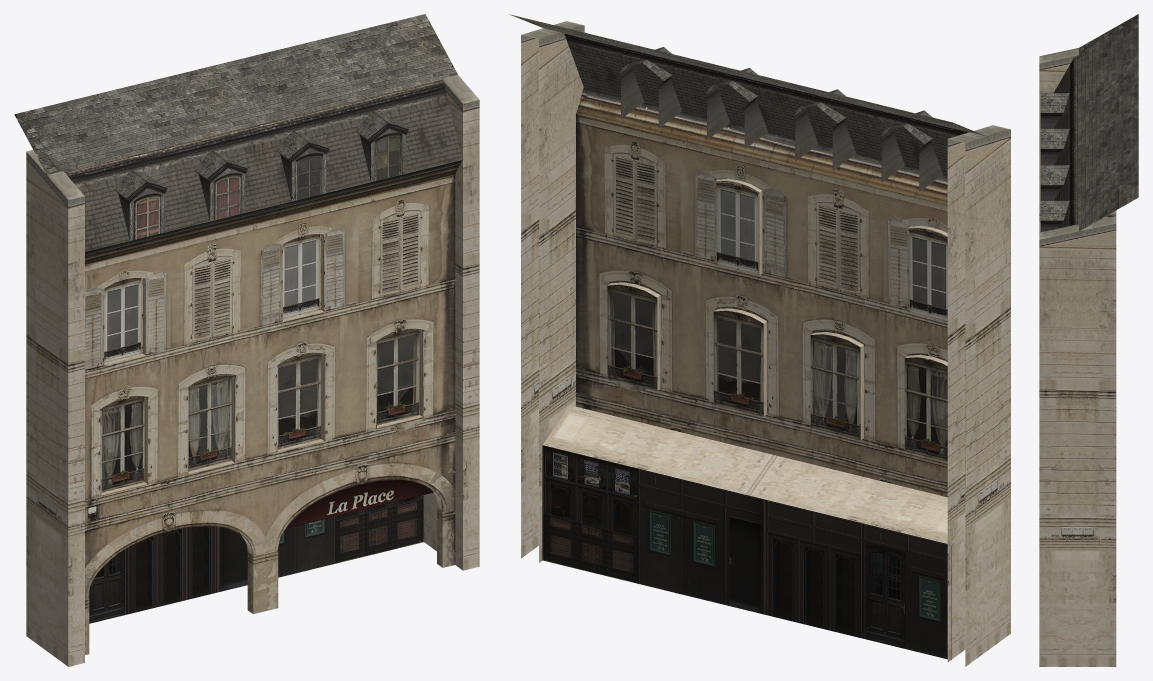
The model's file is Euro_v5_1.FBX.
3 renders of one model, left to right at view 1: azimuth 30°, elevation 25°; view 2: azimuth 150°, elevation 25°; view 3: azimuth 270°, elevation 25°, orthographic. The views are drawn at different scales.
Visible parts, largest first — view 1: Euro_v5_1; view 2: Euro_v5_1; view 3: Euro_v5_1.
Part boxes in pixels (bbox=[...]): Euro_v5_1: bbox=[14, 14, 479, 666]; Euro_v5_1: bbox=[509, 14, 1010, 666]; Euro_v5_1: bbox=[1039, 14, 1138, 666].
Bounding box in the file's own units: 16.78 × 20 × 3.83.
